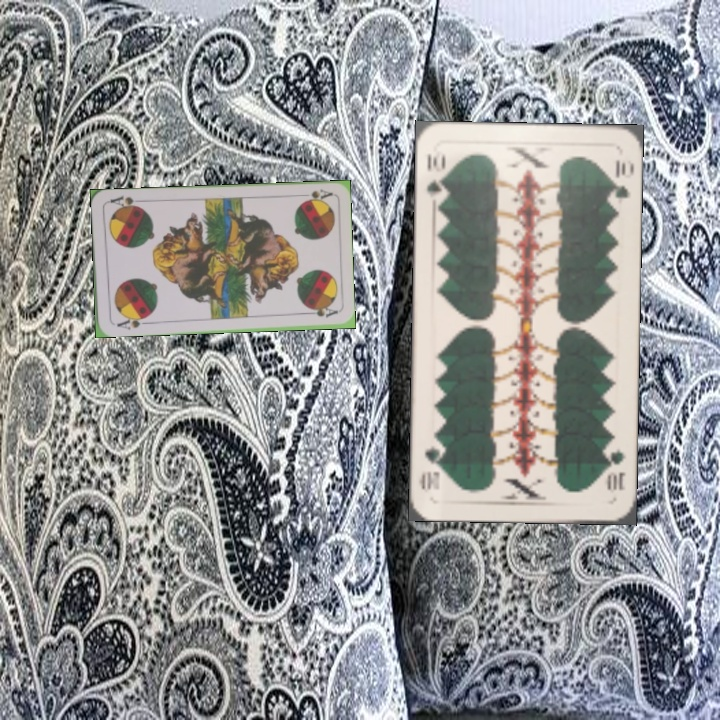G10: (602, 439, 628, 495), (423, 146, 448, 195)
SA: (113, 311, 150, 332), (294, 185, 334, 204)
